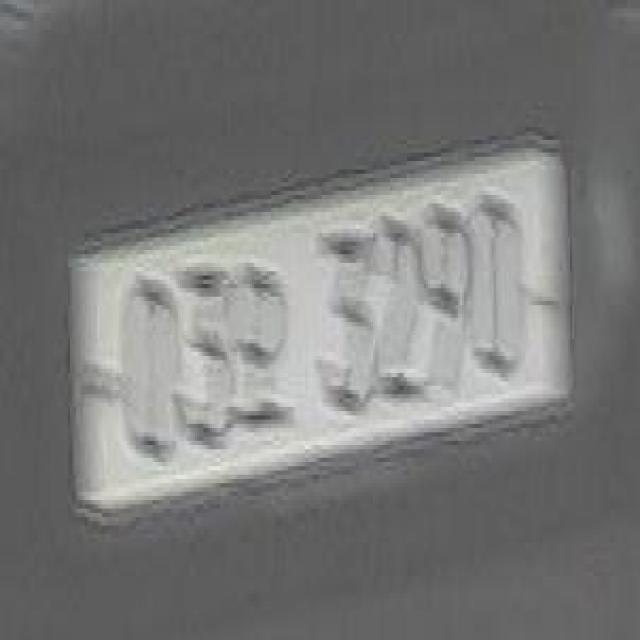illegal_plate: (72, 131, 573, 523)
